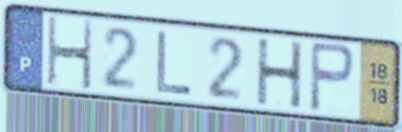2: (205, 35, 249, 103), (100, 25, 144, 93)
H: (45, 14, 95, 93), (254, 37, 305, 111)
L: (154, 29, 195, 98)
P: (306, 39, 358, 116)
